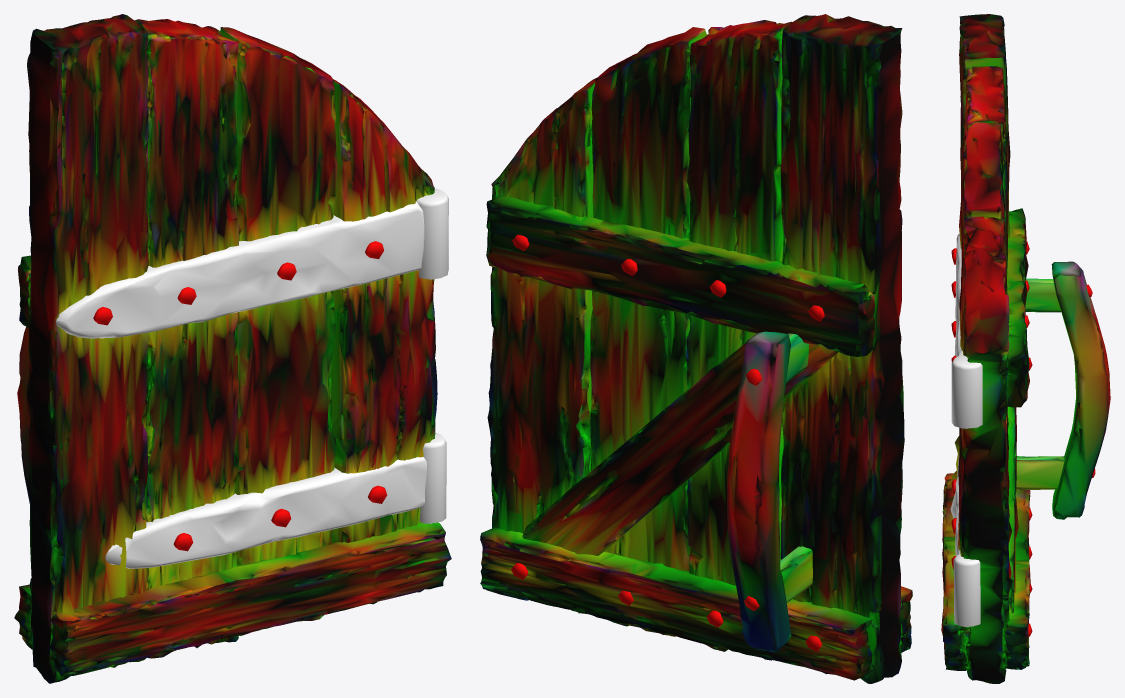
File: SM_Reinforced_Window_R_Arc.fbx
The picture shows the model from 3 angles, left to right: view 1: azimuth 30°, elevation 25°; view 2: azimuth 150°, elevation 25°; view 3: azimuth 270°, elevation 25°; orthographic projection. The views are drawn at different scales.
Visible parts, largest first — view 1: SM_Reinforced_Window_R_Arc_LOD0; view 2: SM_Reinforced_Window_R_Arc_LOD0; view 3: SM_Reinforced_Window_R_Arc_LOD0.
Boxes of the visible parts, box(x1,y1,x2,y2) form: SM_Reinforced_Window_R_Arc_LOD0: box(14, 14, 451, 683); SM_Reinforced_Window_R_Arc_LOD0: box(480, 14, 912, 683); SM_Reinforced_Window_R_Arc_LOD0: box(941, 14, 1110, 683).
Size of the model in its own units: 42.89 by 19.46 by 66.6.
